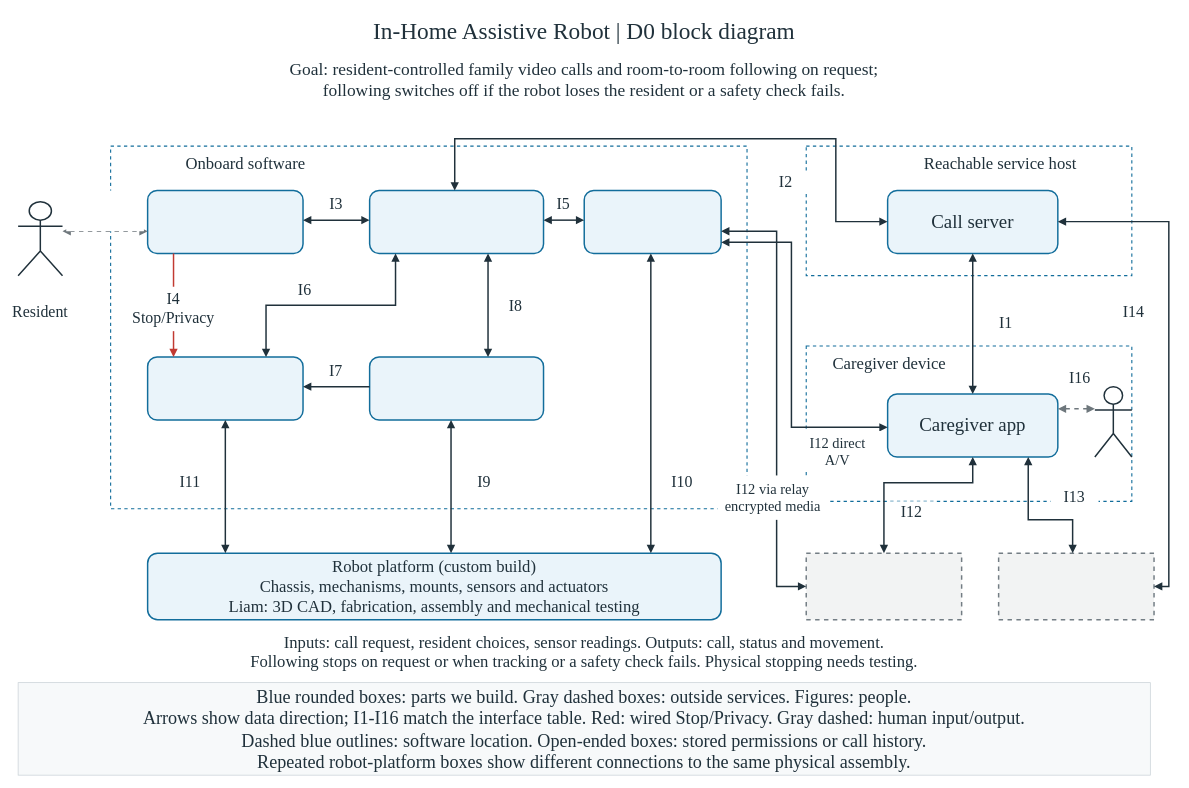
This 1189x788 diagram has some shape labels left out. Each missing label, with the centre of its shape:
"Audio/video calling" belongs at [652,221].
"Call manager" belongs at [456,221].
"Caregiver" belongs at [1113,421].
"I15 local I/O" belongs at [105,210].
"Media relay (optional, proposed)" belongs at [883,586].
"Motion control" belongs at [225,388].
"Person tracking" belongs at [456,388].
"Resident controls" belongs at [225,221].
"Sign-in service (proposed)" belongs at [1076,586].
